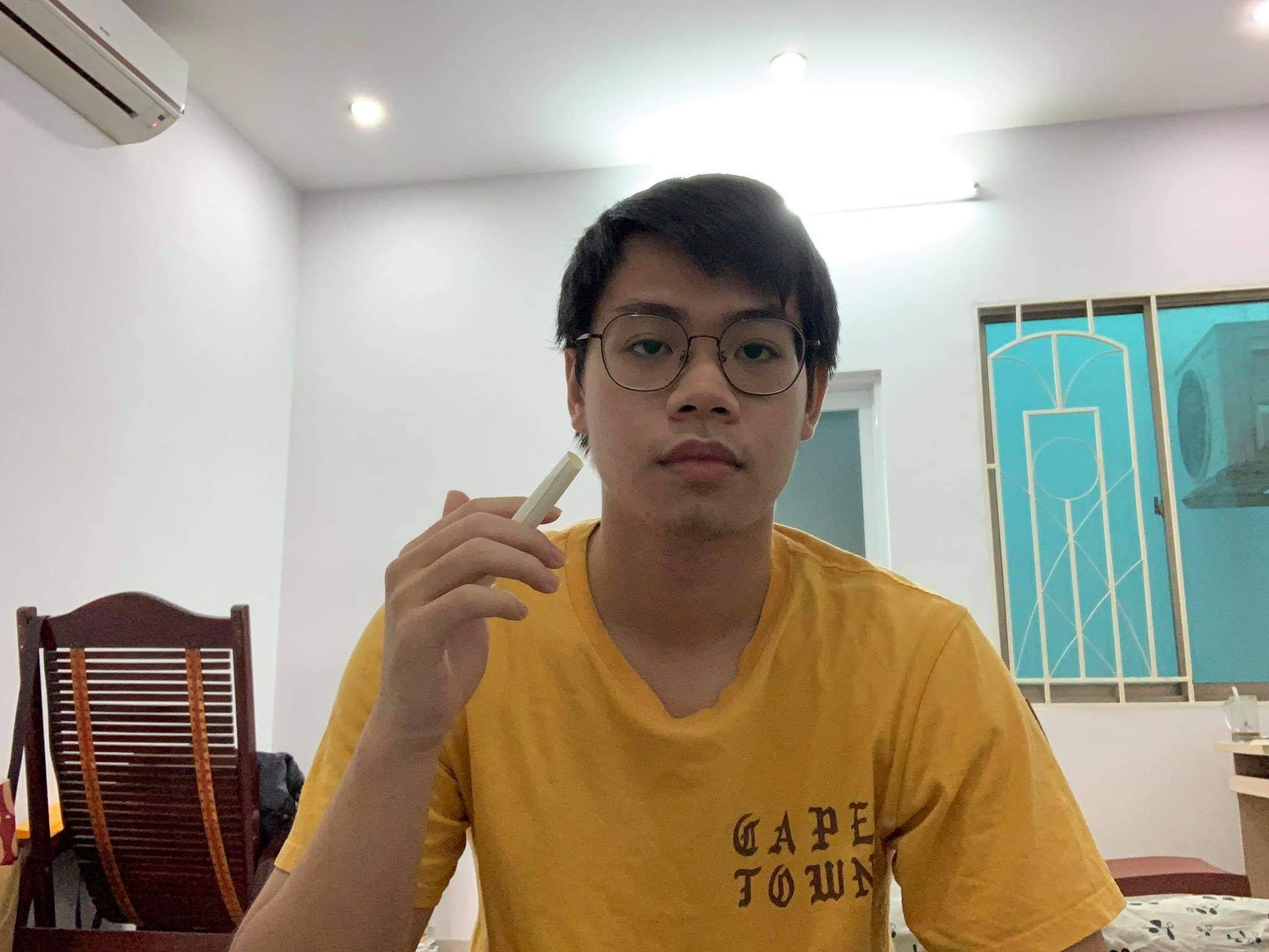cigarette: (518, 443, 592, 532)
person: (197, 164, 1142, 952)
